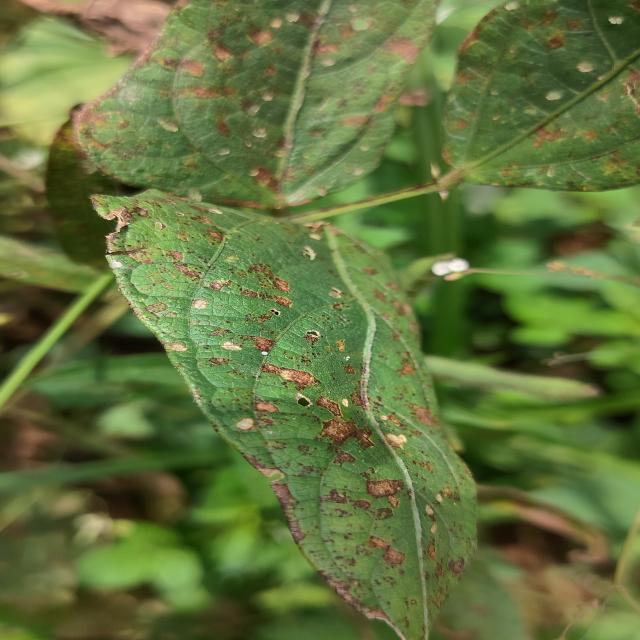Black gram_leaf spot: (91, 189, 476, 640), (74, 0, 436, 209), (444, 0, 640, 190)
